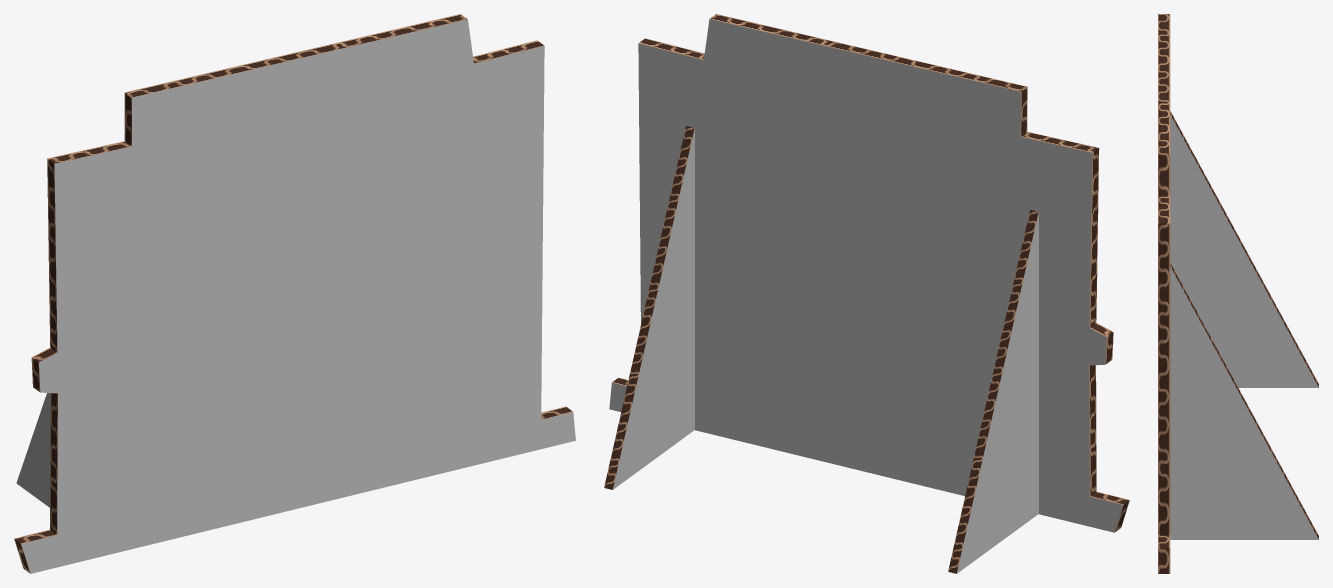
File: Teller.fbx
3 renders of one model, left to right at view 1: azimuth 30°, elevation 25°; view 2: azimuth 150°, elevation 25°; view 3: azimuth 270°, elevation 25°, orthographic. The views are drawn at different scales.
Parts seen in each view (by area): view 1: Teller_LOD0; view 2: Teller_LOD0; view 3: Teller_LOD0.
Part boxes in pixels (box(x1,y1,x2,y2)): Teller_LOD0: box(14, 14, 575, 573); Teller_LOD0: box(604, 14, 1129, 573); Teller_LOD0: box(1158, 14, 1318, 573).
Bounding box in the file's own units: 1180 × 918 × 354.
